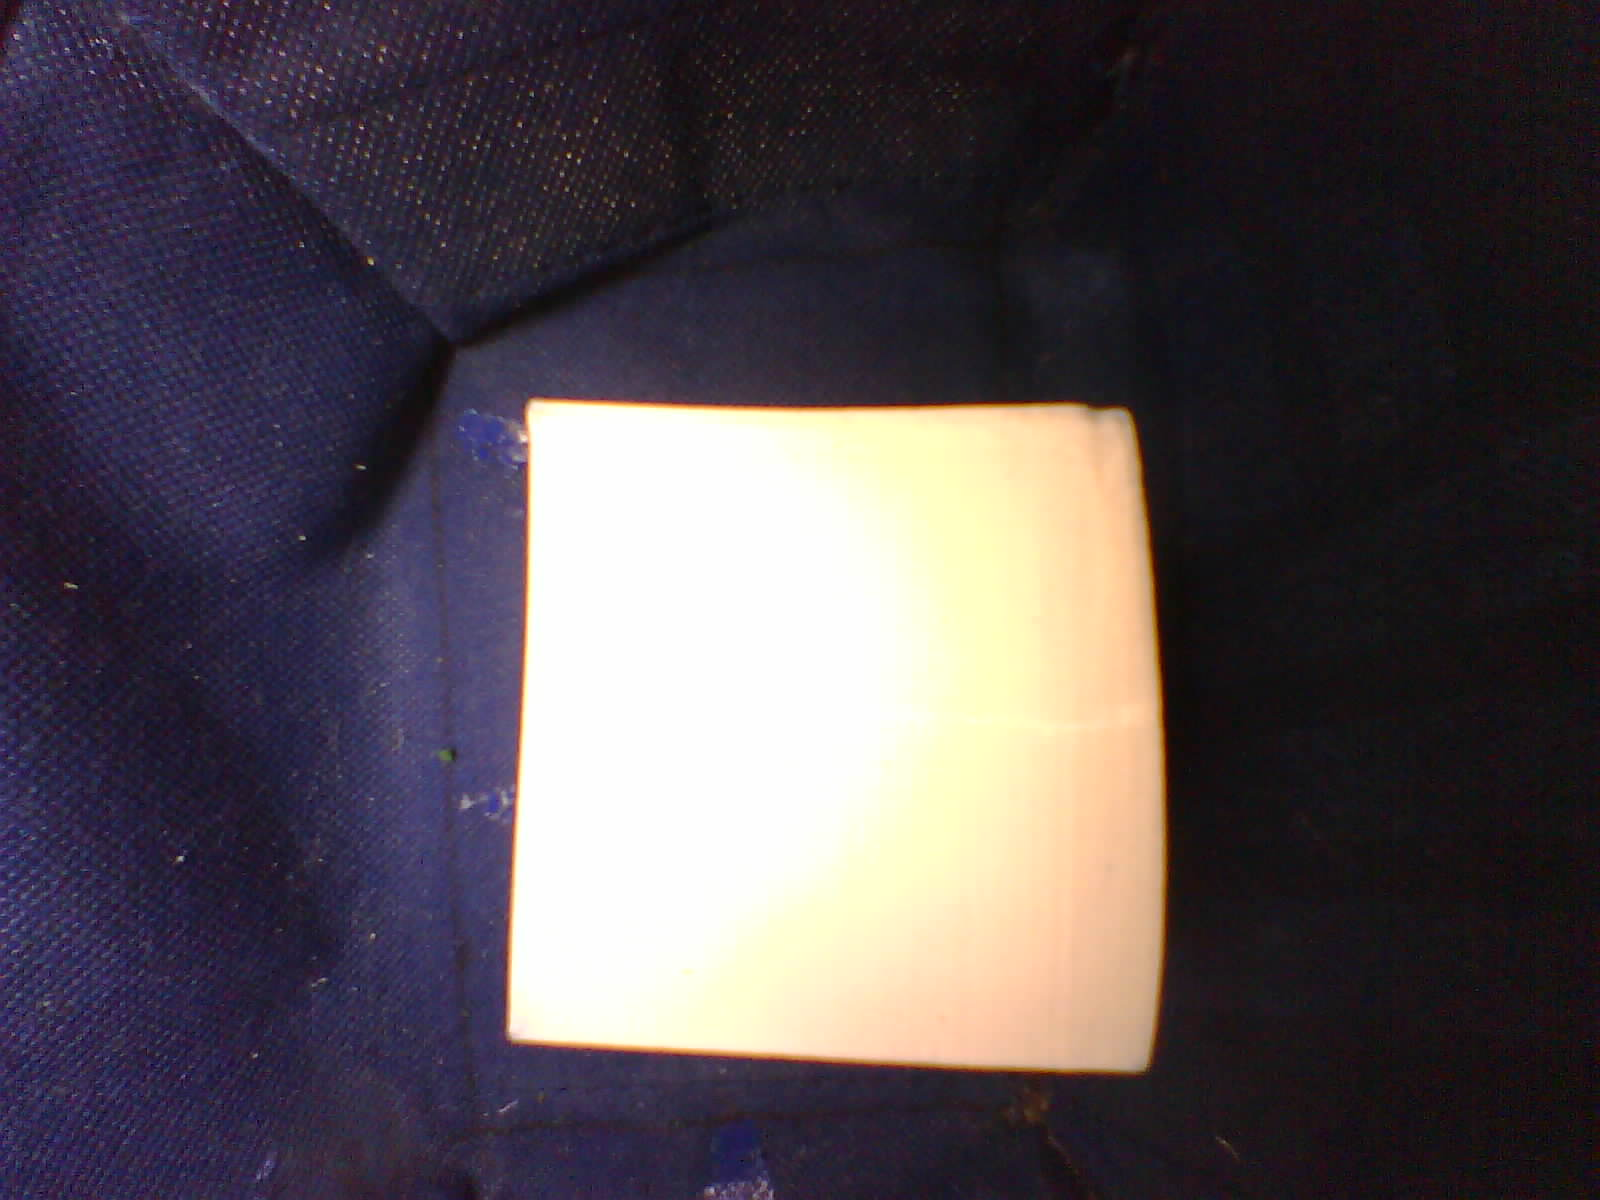cube-hard: (465, 364, 1204, 1083)
